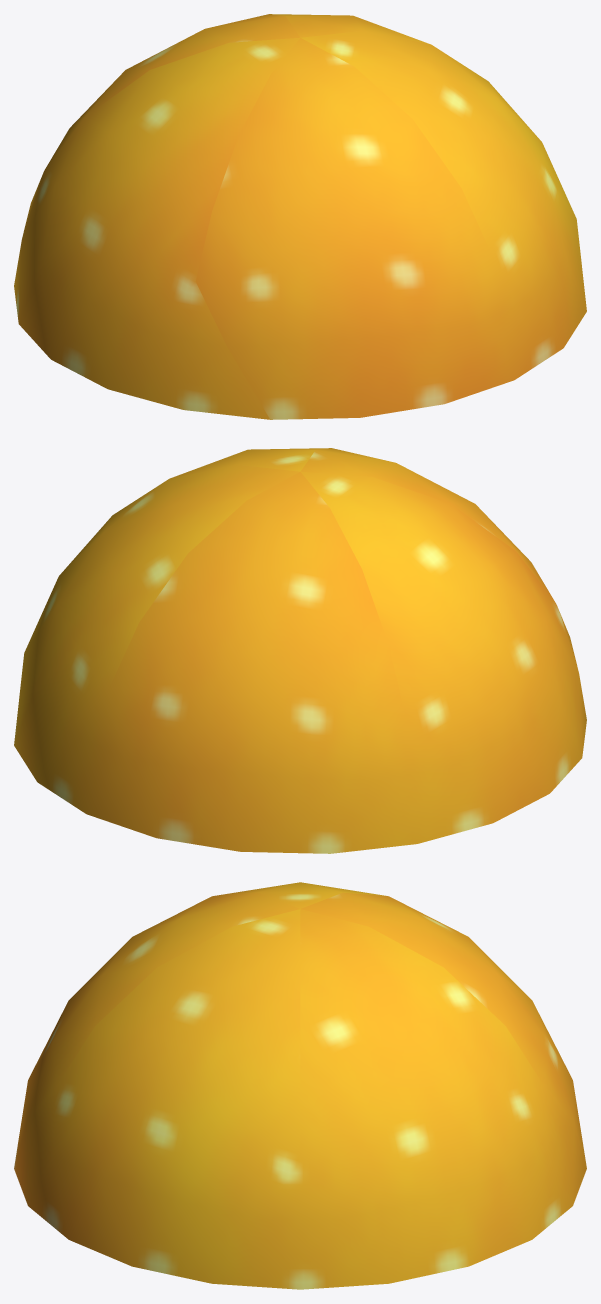
Rendered from dome.glb.
The picture shows the model from 3 angles, top to bottom: view 1: azimuth 30°, elevation 25°; view 2: azimuth 150°, elevation 25°; view 3: azimuth 270°, elevation 25°; orthographic projection.
Parts seen in each view (by area): view 1: Dome; view 2: Dome; view 3: Dome.
Part boxes in pixels (left/top/right/bottom): Dome: left=14, top=14, right=586, bottom=419; Dome: left=14, top=448, right=586, bottom=853; Dome: left=14, top=882, right=586, bottom=1289.
Bounding box in the file's own units: 2 × 1 × 2.
1 material, 1 textured.
